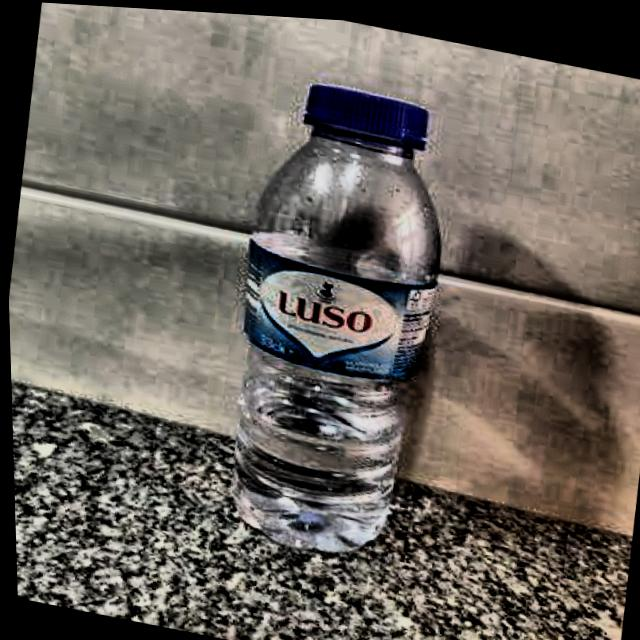Bottles: (178, 49, 522, 608)
